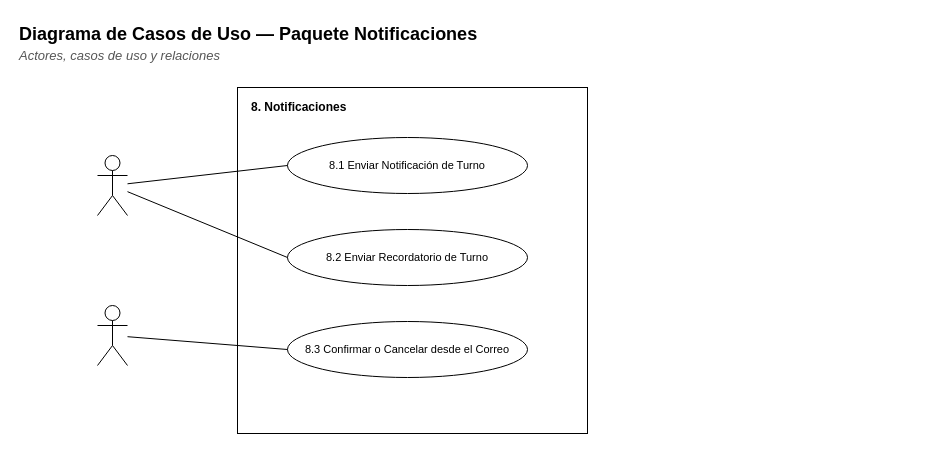
This 934x451 diagram has some shape labels left out. Each missing label, with the centre of its shape:
Paciente: (x=112, y=335)
Tarea programada: (x=112, y=185)
